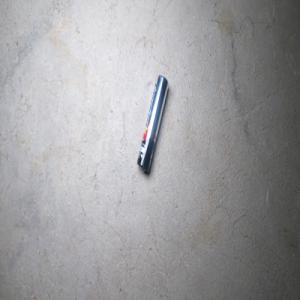Battery: (136, 74, 168, 173)
